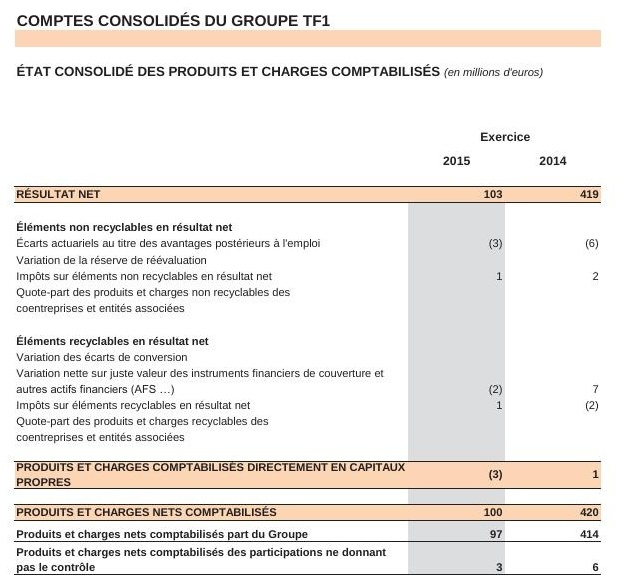table: (0, 0, 620, 586)
